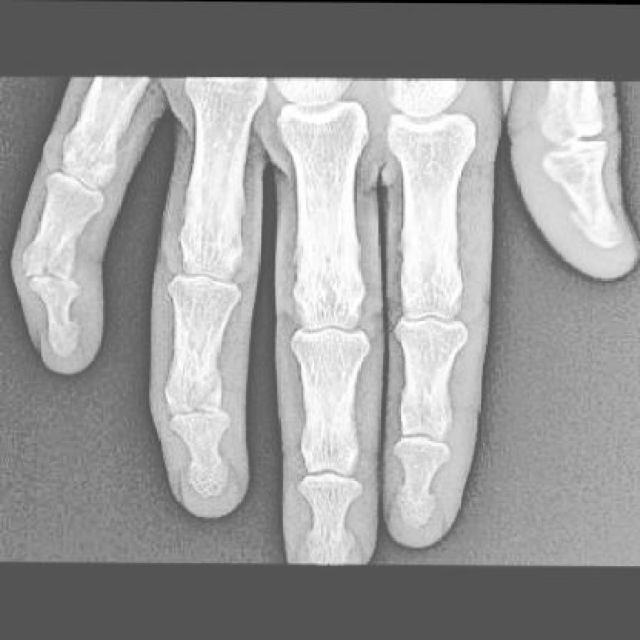Fracture: (190, 373, 230, 424), (26, 242, 72, 284)
